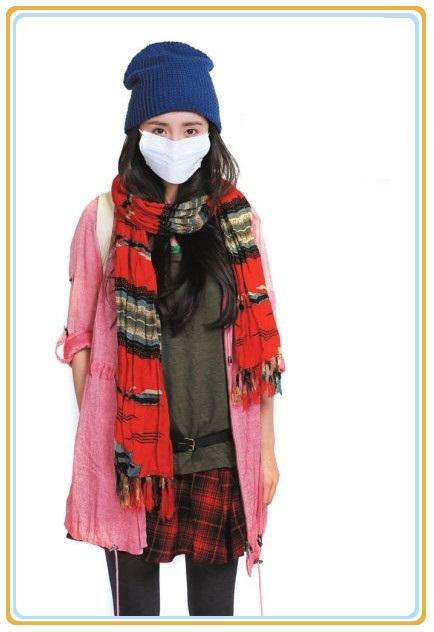OK: (142, 117, 210, 182)
